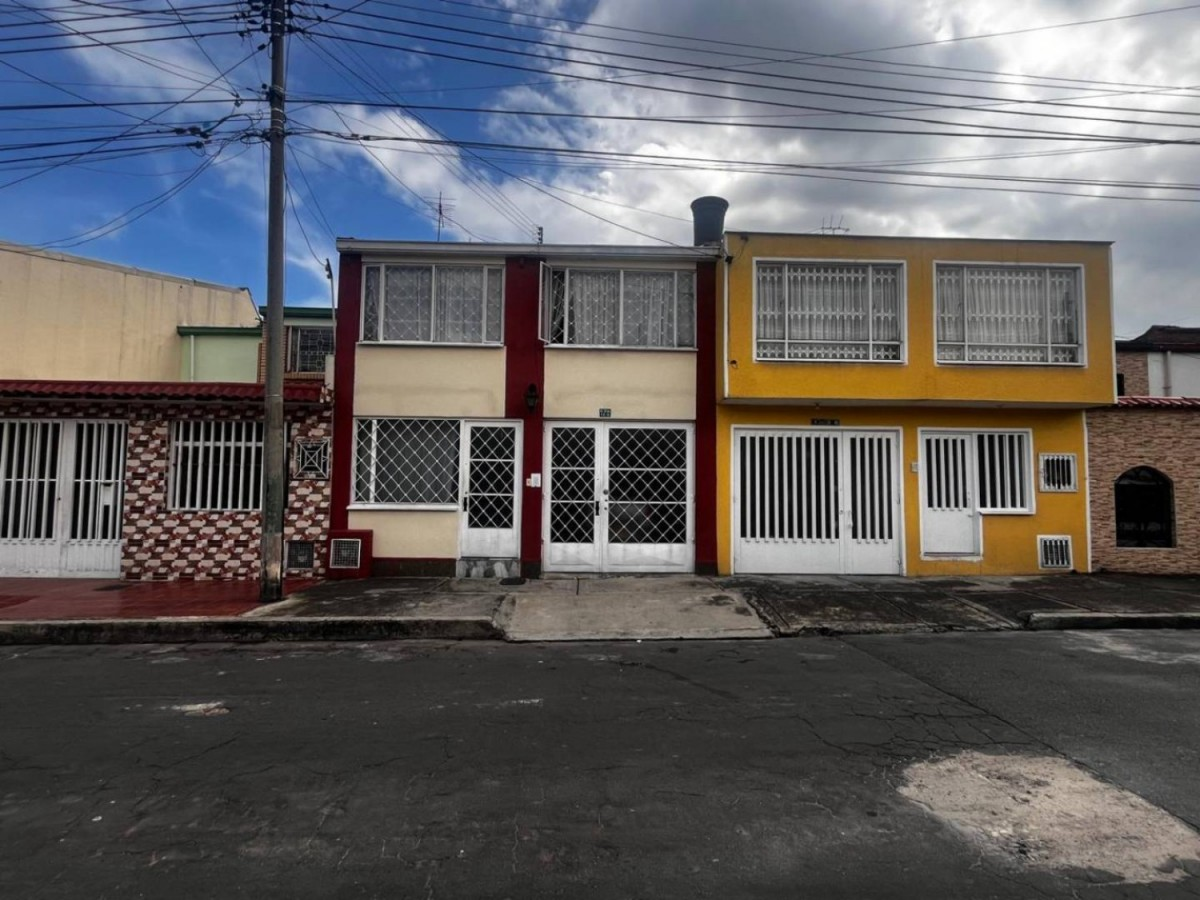House: (725, 203, 1111, 603), (324, 203, 725, 588), (9, 361, 324, 605)
